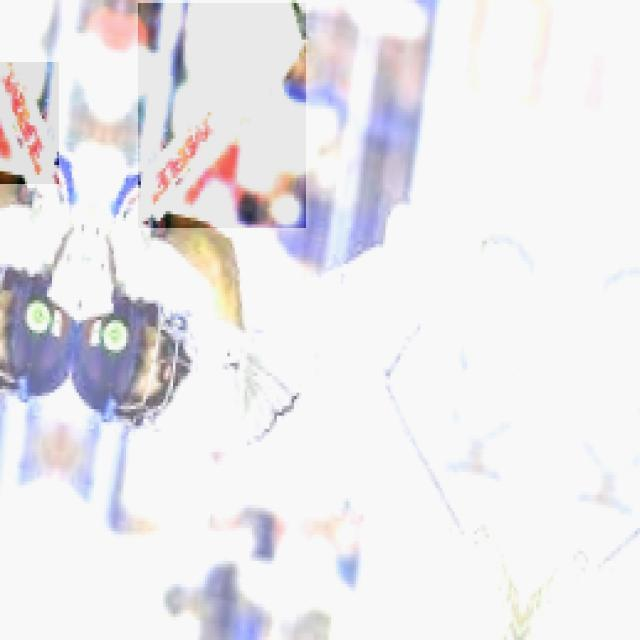bat: (139, 4, 306, 229)
toe: (288, 4, 310, 43)
